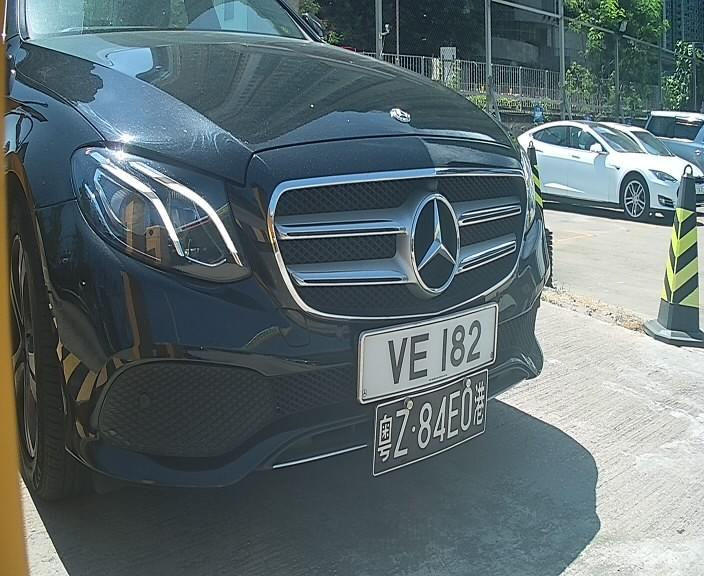privatecar: (13, 26, 569, 523)
